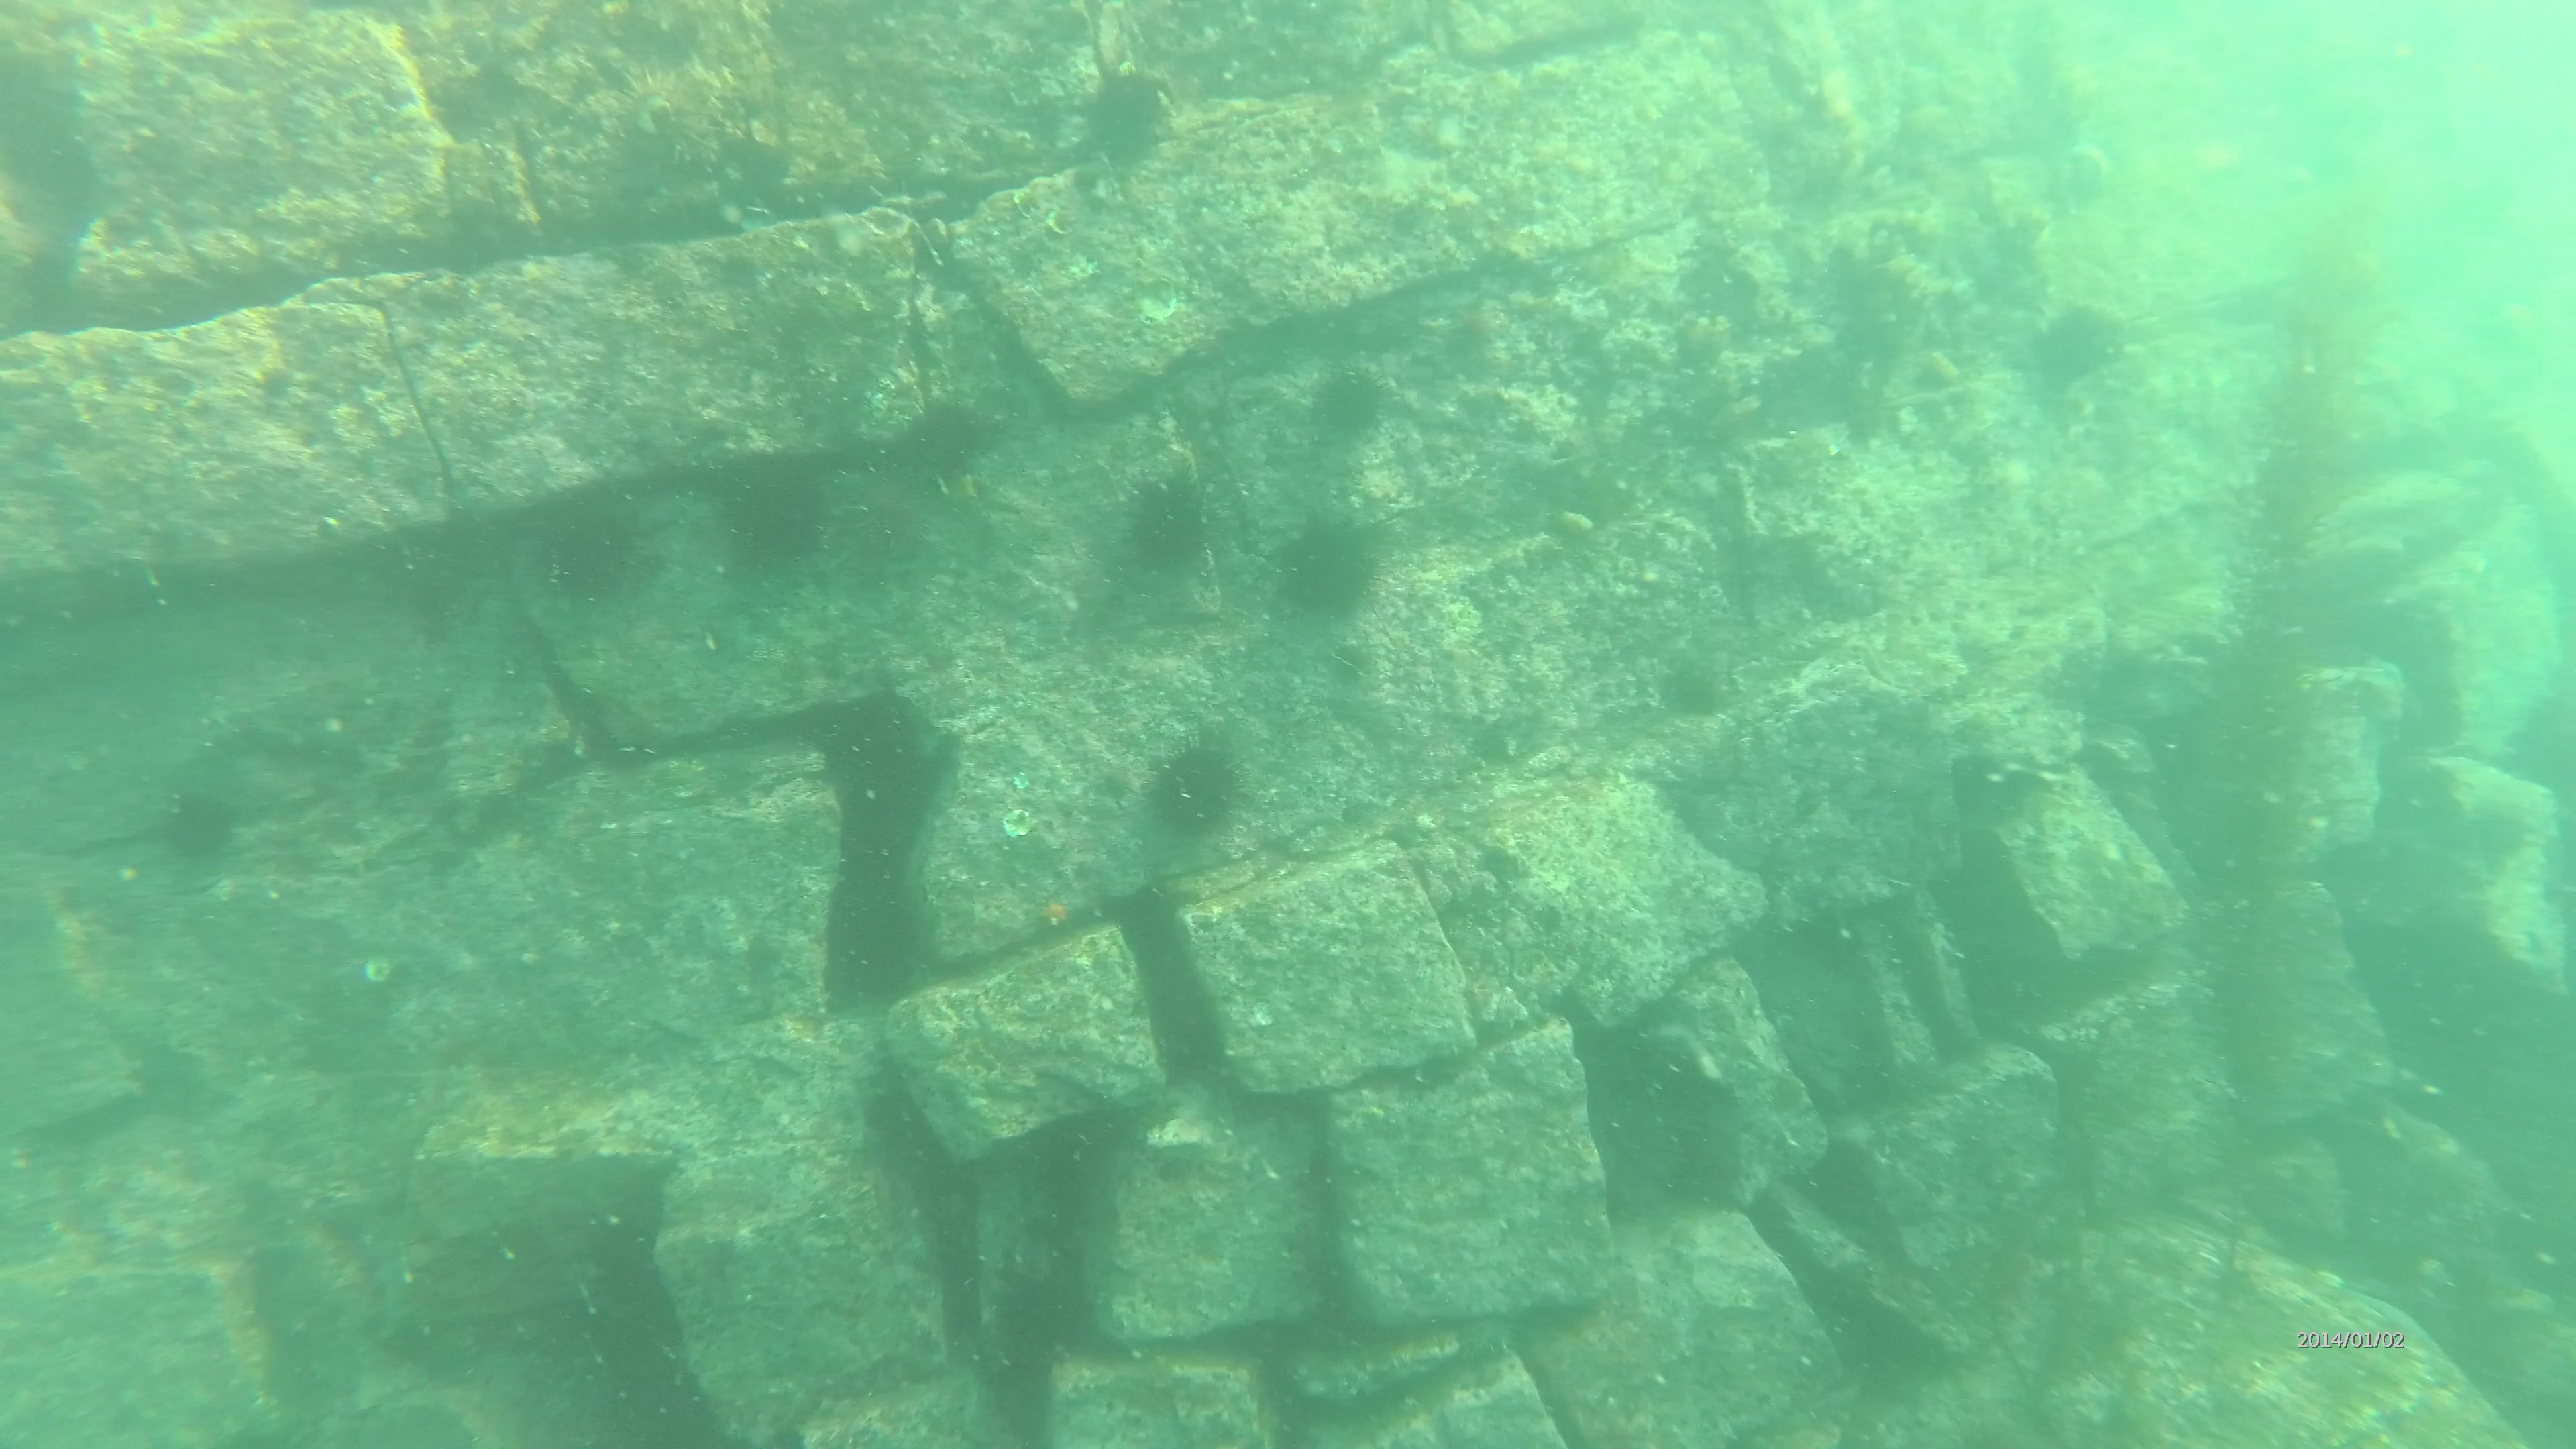echinus: (731, 472, 835, 566), (1086, 64, 1178, 161), (890, 403, 993, 490), (1286, 511, 1373, 612), (541, 506, 639, 594), (2038, 303, 2128, 395), (1152, 747, 1240, 839), (1134, 485, 1212, 575), (1660, 649, 1743, 725), (168, 784, 239, 862), (1320, 370, 1392, 442)
